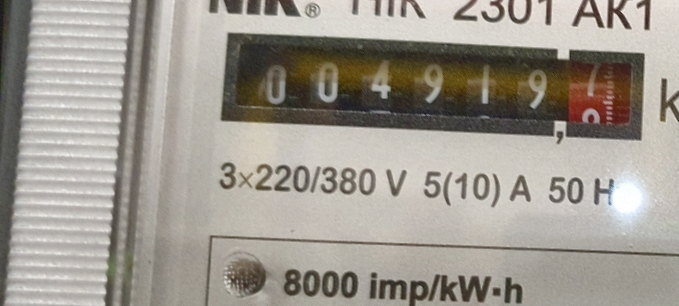0: (314, 58, 342, 104), (263, 60, 288, 105)
1: (476, 60, 493, 106)
4: (367, 55, 393, 100)
7: (578, 58, 603, 99)
9: (524, 65, 549, 112), (420, 61, 445, 106)
screen: (209, 18, 663, 159)
